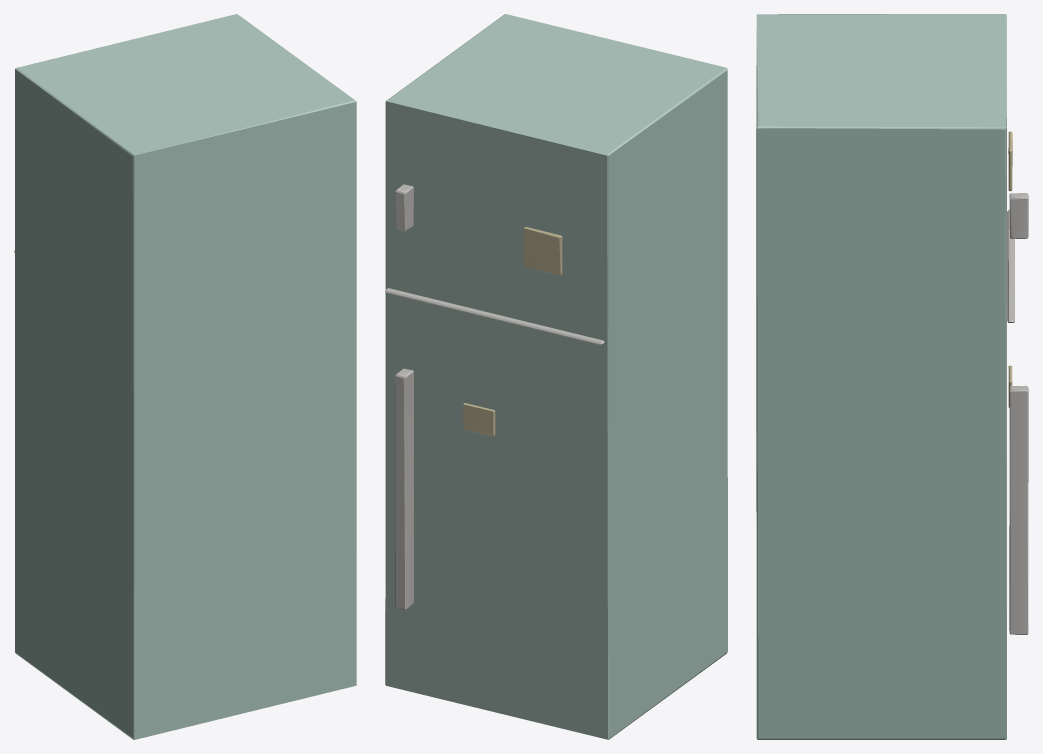
Rendered from furn_fridge__mint_low.glb.
3 renders of one model, left to right at view 1: azimuth 30°, elevation 25°; view 2: azimuth 150°, elevation 25°; view 3: azimuth 270°, elevation 25°, orthographic. The views are drawn at different scales.
Size of the model in its own units: 0.7 by 1.75 by 0.7043.
